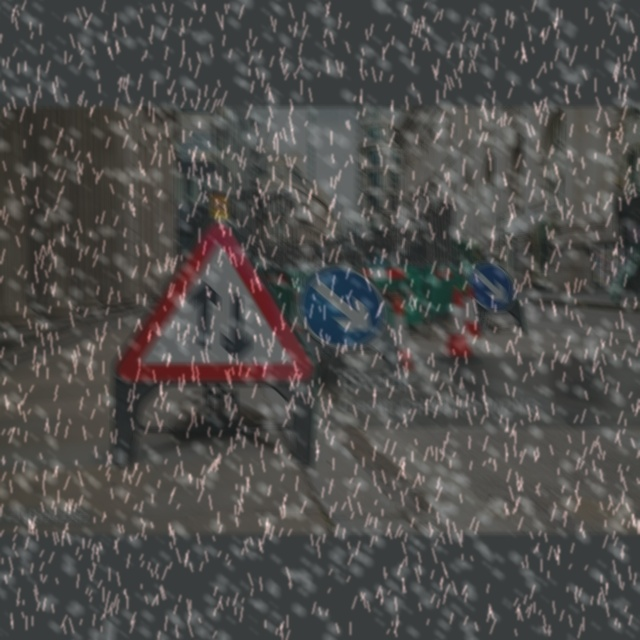Mandatory_Two_Way_Traffic: (125, 217, 311, 389)
